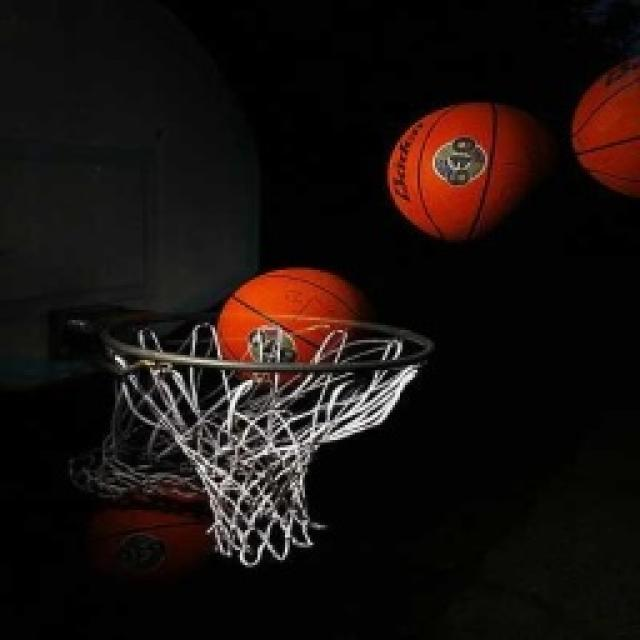rim: (203, 256, 374, 404), (384, 91, 544, 249), (566, 48, 640, 209)
